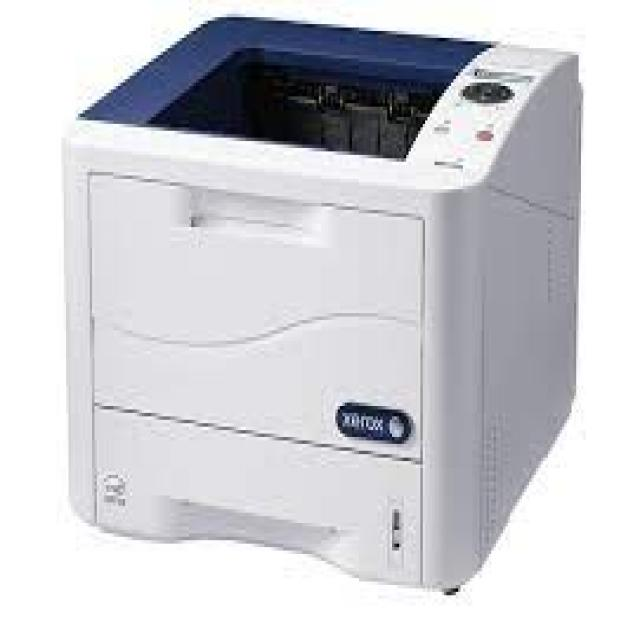printer: (48, 0, 596, 595)
